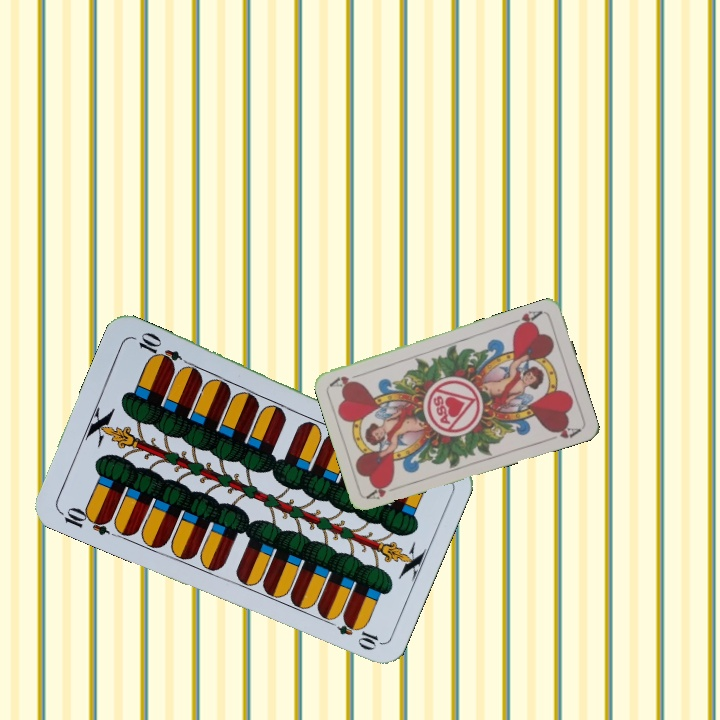E10: (55, 503, 114, 538)
HA: (364, 477, 404, 502), (507, 306, 545, 332)
